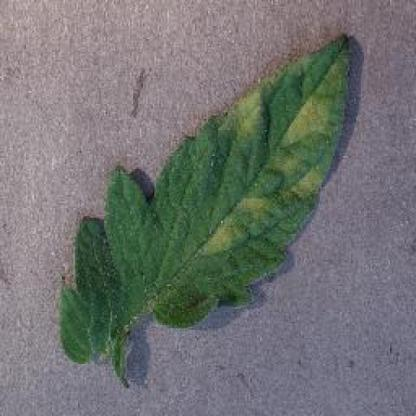Tomato_Leaf_Mold: (58, 30, 353, 364)
